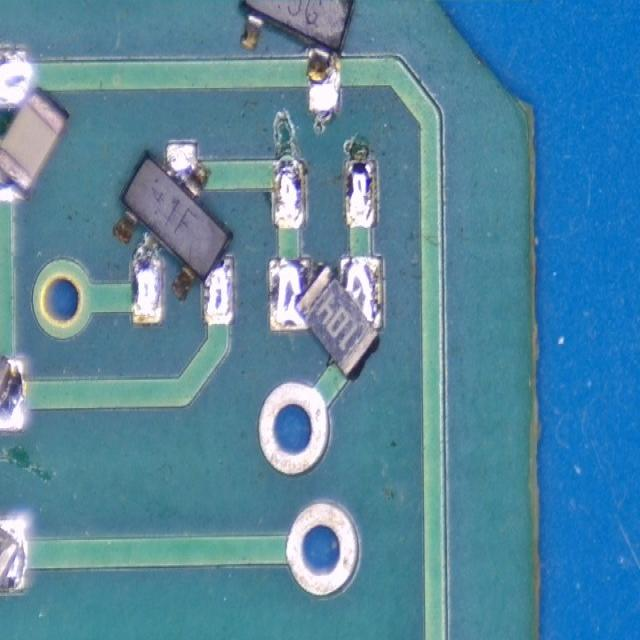Incorrect_installation: (112, 141, 236, 324), (269, 256, 385, 380), (239, 0, 356, 111), (0, 48, 70, 202)
